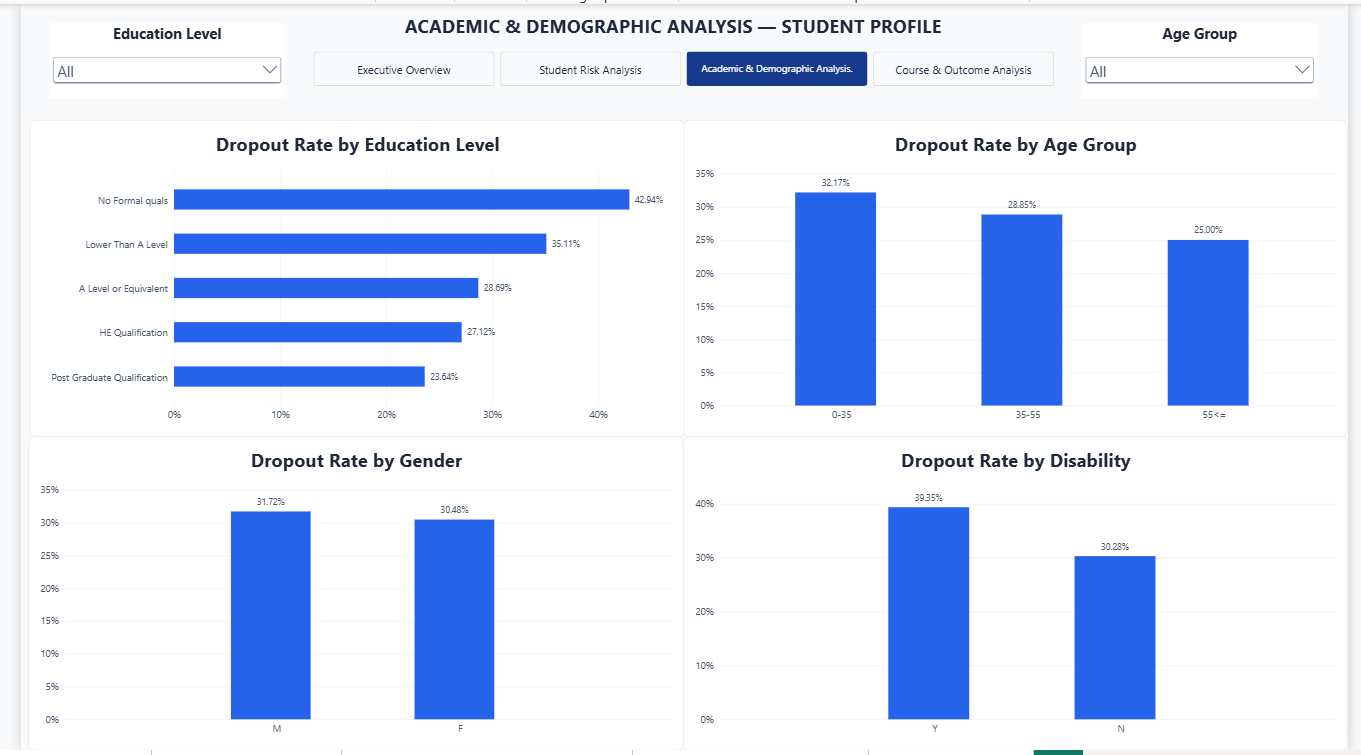

Layout of this report page (visuals, bound fields, positions):
{"tool":"powerbi","page":{"name":"Academic & Demographic Analysis.","canvas":[1920,1080],"ordinal":2},"visuals":[{"type":"clusteredBarChart","title":"Dropout Rate by Education Level","fields":{"Category":["public master_analytical_dataset.highest_education"],"Y":["public master_analytical_dataset.Dropout Rate"]},"box":[12.7,168.3,948.3,457.8],"z":0},{"type":"clusteredColumnChart","title":"Dropout Rate by Age Group","fields":{"Y":["public master_analytical_dataset.Dropout Rate"],"Category":["public master_analytical_dataset.age_band"]},"box":[959.1,168.3,960.9,457.8],"z":1000},{"type":"clusteredColumnChart","title":"Dropout Rate by Gender","fields":{"Y":["public master_analytical_dataset.Dropout Rate"],"Category":["public master_analytical_dataset.gender"]},"box":[10.9,626.1,948.3,454.2],"z":2000},{"type":"clusteredColumnChart","title":"Dropout Rate by Disability","fields":{"Category":["public master_analytical_dataset.disability"],"Y":["public master_analytical_dataset.Dropout Rate"]},"box":[959.1,626.1,960.9,454.2],"z":3000},{"type":"textbox","box":[555.6,12.7,808.9,56.1],"z":4000},{"type":"slicer","title":"Education Level","fields":{"Values":["public master_analytical_dataset.highest_education"]},"box":[41.6,27.1,340.2,108.6],"z":5000},{"type":"slicer","title":"Age Group","fields":{"Values":["public master_analytical_dataset.age_band"]},"box":[1536.4,27.1,340.2,108.6],"z":6000},{"type":"pageNavigator","box":[423.5,68.8,1073.1,50.7],"z":8000}]}

Visuals, with their boxes on the page's 1920x1080 design canvas (x1, y1, x2, y2). These are canvas units, not pixel positions in the 1361x755 screenshot, which may show the page scaled, cropped or inside an application window:
"Dropout Rate by Education Level" clusteredBarChart: 13 168 961 626
"Dropout Rate by Age Group" clusteredColumnChart: 959 168 1920 626
"Dropout Rate by Gender" clusteredColumnChart: 11 626 959 1080
"Dropout Rate by Disability" clusteredColumnChart: 959 626 1920 1080
textbox: 556 13 1364 69
"Education Level" slicer: 42 27 382 136
"Age Group" slicer: 1536 27 1877 136
pageNavigator: 424 69 1497 120
